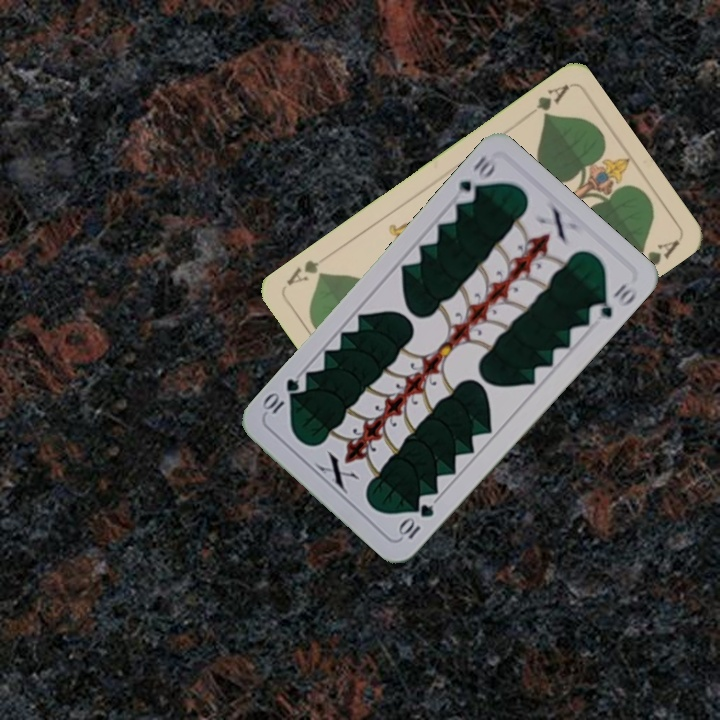G10: (450, 151, 499, 207), (394, 500, 437, 542)
GA: (531, 80, 571, 122)
